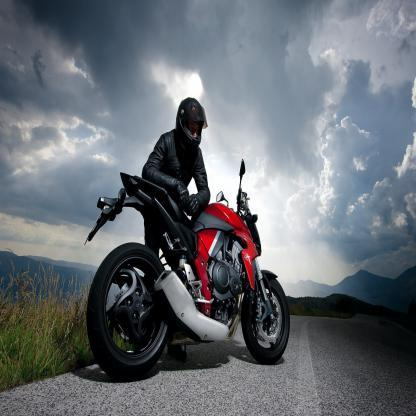Motorcycle: (85, 168, 289, 383)
